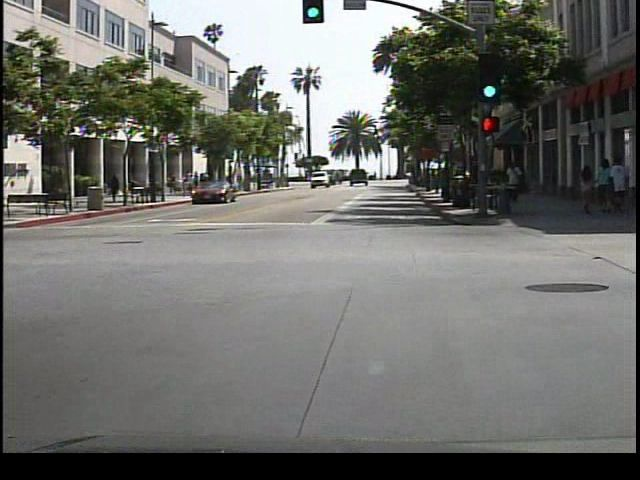person: (505, 156, 526, 208), (109, 170, 124, 203)
